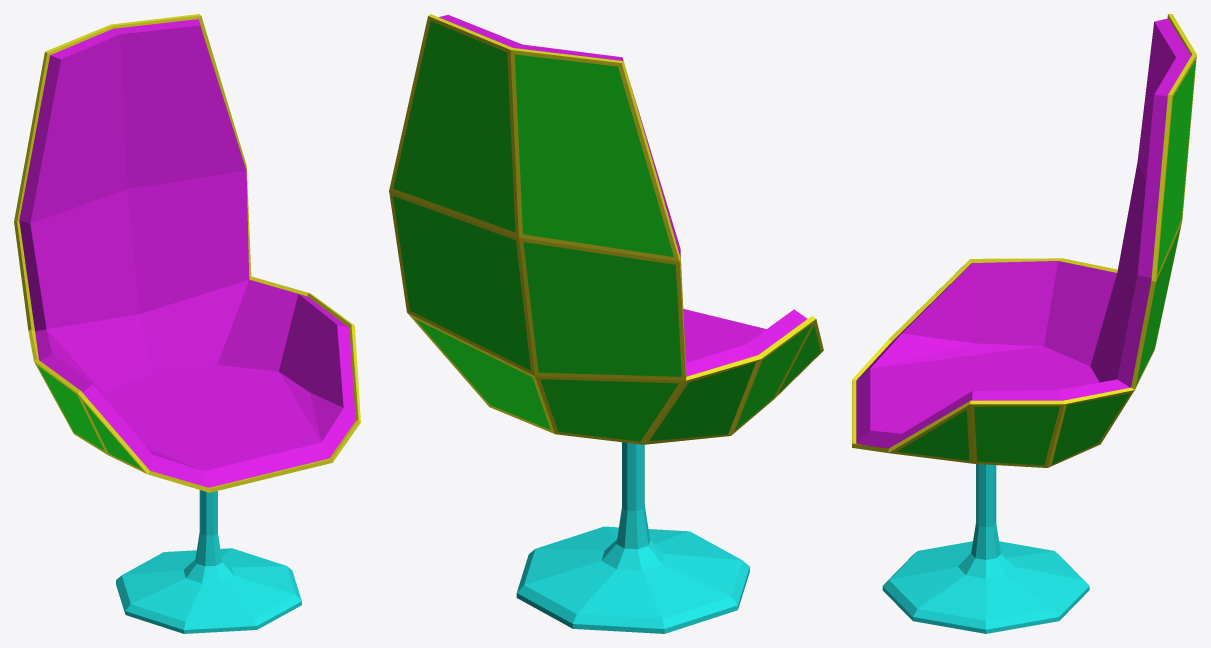
Rendered from Chair_13.fbx.
The picture shows the model from 3 angles, left to right: view 1: azimuth 30°, elevation 25°; view 2: azimuth 150°, elevation 25°; view 3: azimuth 270°, elevation 25°; orthographic projection. The views are drawn at different scales.
Parts seen in each view (by area): view 1: Chair_13; view 2: Chair_13; view 3: Chair_13.
Part boxes in pixels (left/top/right/bottom): Chair_13: left=14, top=14, right=360, bottom=633; Chair_13: left=389, top=14, right=823, bottom=633; Chair_13: left=852, top=14, right=1196, bottom=633.
Size of the model in its own units: 75.97 by 131 by 76.12.
